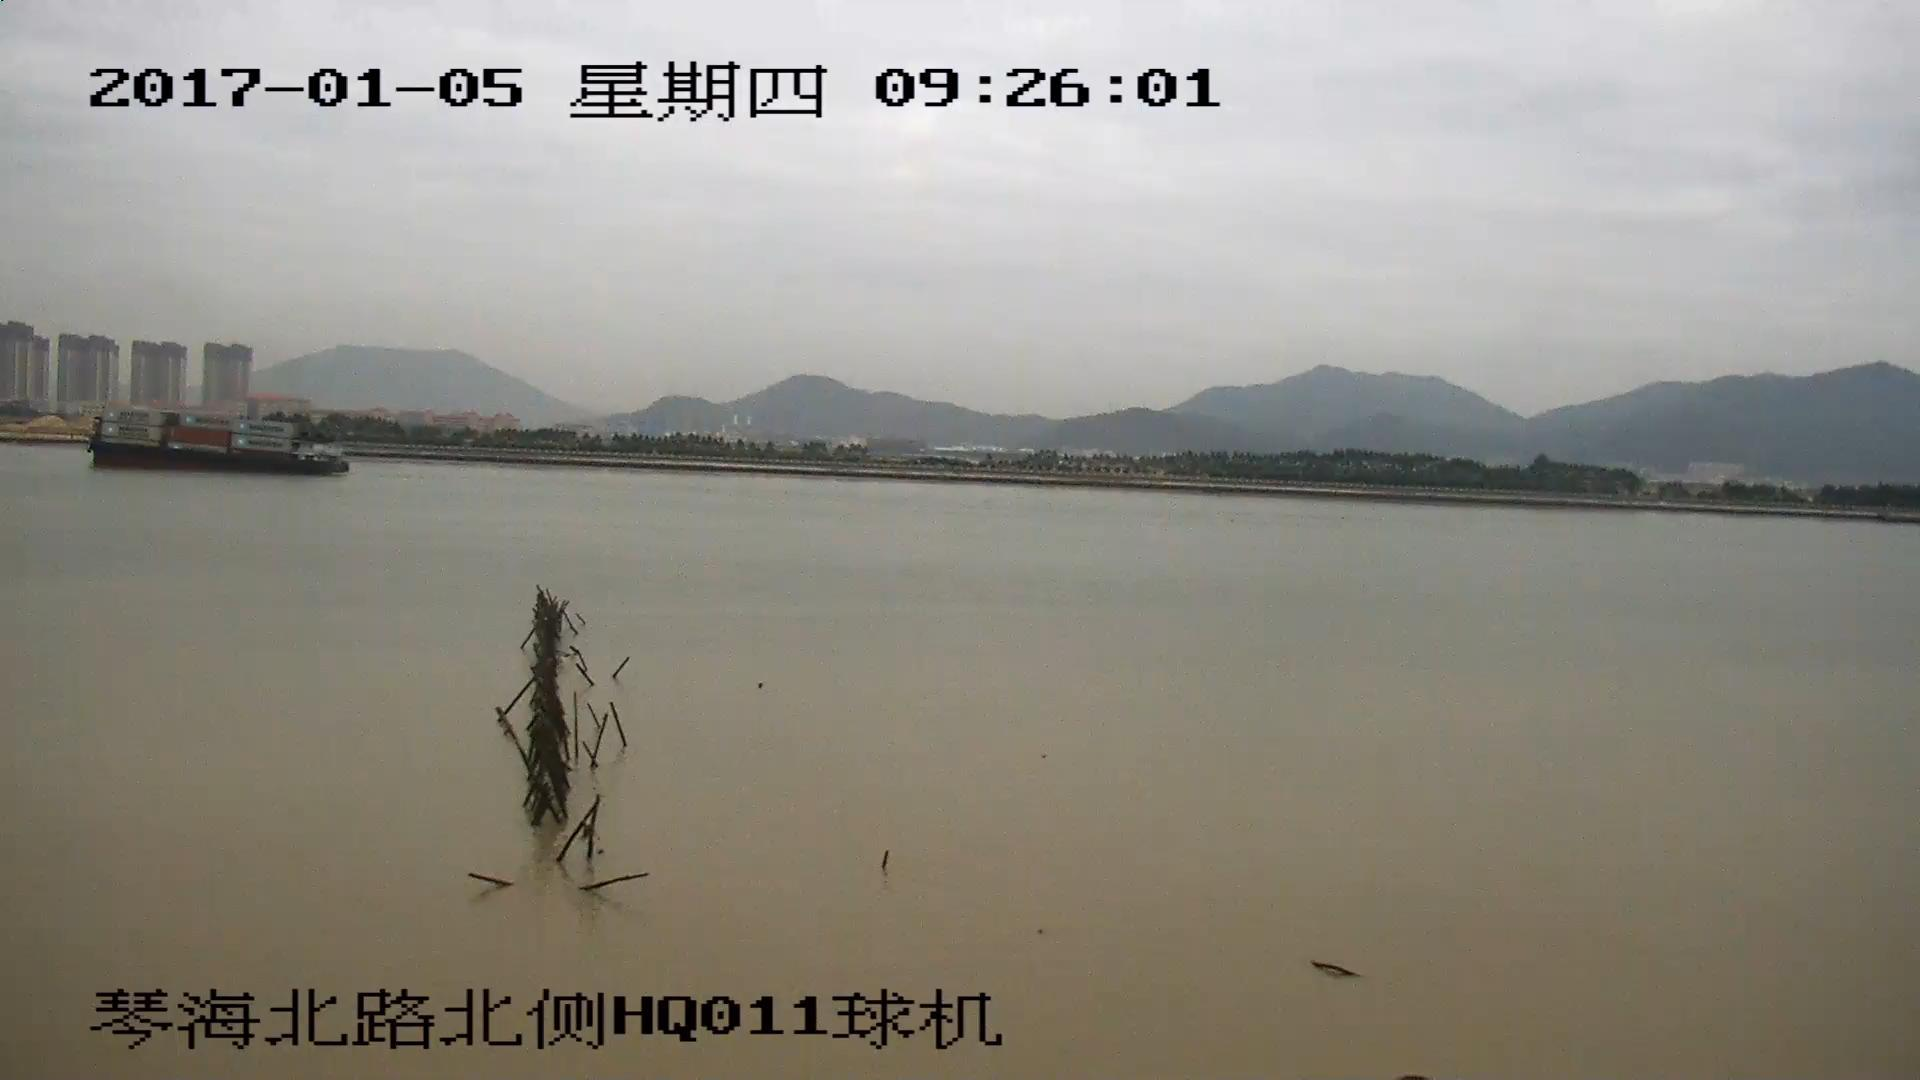Ship: (92, 414, 347, 473)
